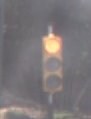Red: (41, 34, 62, 94)
